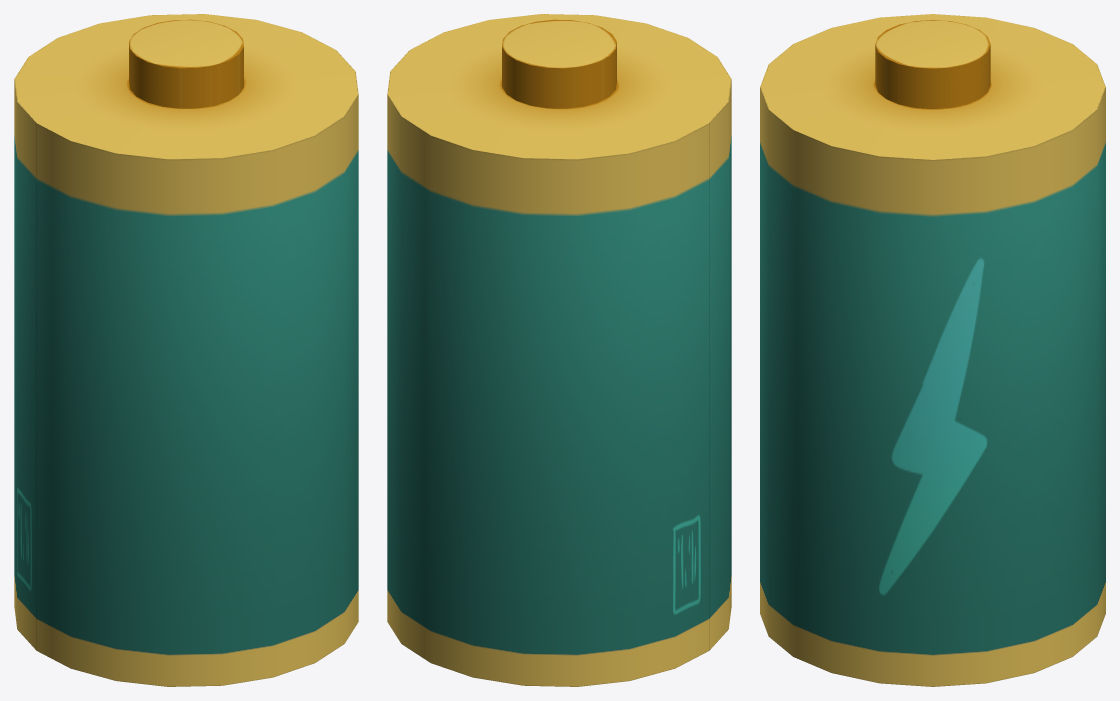
The model's file is Battery.fbx.
The picture shows the model from 3 angles, left to right: view 1: azimuth 30°, elevation 25°; view 2: azimuth 150°, elevation 25°; view 3: azimuth 270°, elevation 25°; orthographic projection.
Visible parts, largest first — view 1: pCylinder19; view 2: pCylinder19; view 3: pCylinder19.
Part boxes in pixels (<box>): pCylinder19: <box>14,14,358,686</box>; pCylinder19: <box>387,14,731,686</box>; pCylinder19: <box>760,14,1105,686</box>.
Bounding box in the file's own units: 19.62 × 35.81 × 19.62.
